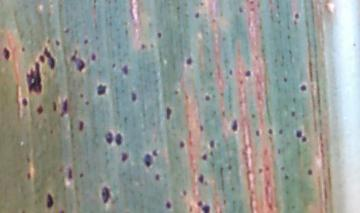tarspot: (33, 44, 56, 69), (67, 48, 89, 74), (25, 61, 42, 94), (59, 95, 70, 122), (42, 189, 56, 208), (102, 128, 116, 146), (1, 45, 13, 63), (101, 186, 112, 205), (95, 83, 108, 96), (65, 165, 75, 181), (164, 105, 173, 122), (78, 117, 87, 133), (143, 153, 153, 167), (19, 96, 31, 107), (298, 82, 309, 94), (230, 118, 239, 132), (121, 63, 130, 76), (130, 89, 138, 103), (89, 51, 99, 62), (50, 99, 58, 112), (177, 139, 187, 149), (120, 151, 129, 162), (305, 166, 314, 177), (117, 130, 123, 146), (25, 153, 33, 164), (36, 103, 44, 114), (202, 204, 211, 213), (266, 127, 275, 136), (154, 172, 162, 182), (185, 56, 193, 66), (282, 75, 290, 85), (248, 1, 256, 11), (43, 37, 52, 45), (152, 148, 160, 157), (293, 11, 301, 20), (295, 129, 303, 138), (301, 135, 309, 144), (208, 139, 216, 148), (198, 174, 206, 183), (200, 153, 209, 161), (289, 109, 298, 117), (226, 163, 235, 171), (173, 88, 181, 96), (203, 93, 211, 101), (277, 128, 285, 136), (250, 111, 258, 119), (54, 38, 61, 47), (82, 36, 89, 45), (165, 200, 172, 209), (238, 5, 245, 14), (195, 200, 204, 207), (199, 123, 206, 132), (91, 1, 100, 8), (110, 61, 117, 69), (140, 42, 147, 50), (182, 188, 189, 196), (276, 147, 283, 155), (122, 115, 129, 123), (58, 165, 64, 174), (221, 108, 227, 117), (19, 46, 26, 53), (63, 27, 70, 34), (227, 69, 234, 76), (26, 172, 32, 180), (288, 47, 294, 55), (229, 186, 237, 192), (255, 128, 260, 137), (78, 91, 84, 98), (156, 32, 163, 38), (195, 11, 201, 18), (244, 70, 251, 76), (208, 70, 214, 77), (221, 198, 228, 204), (175, 4, 181, 11), (49, 127, 54, 134), (85, 100, 90, 107), (219, 90, 224, 97), (210, 17, 217, 22), (20, 208, 26, 213), (78, 172, 84, 177), (149, 43, 155, 48), (284, 174, 290, 179), (286, 33, 292, 38), (258, 168, 264, 173), (276, 20, 282, 25), (199, 1, 205, 6), (124, 28, 129, 34), (281, 165, 285, 170)
